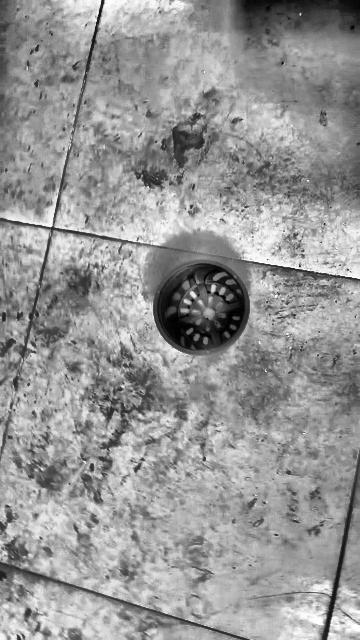pot: (153, 261, 250, 354)
